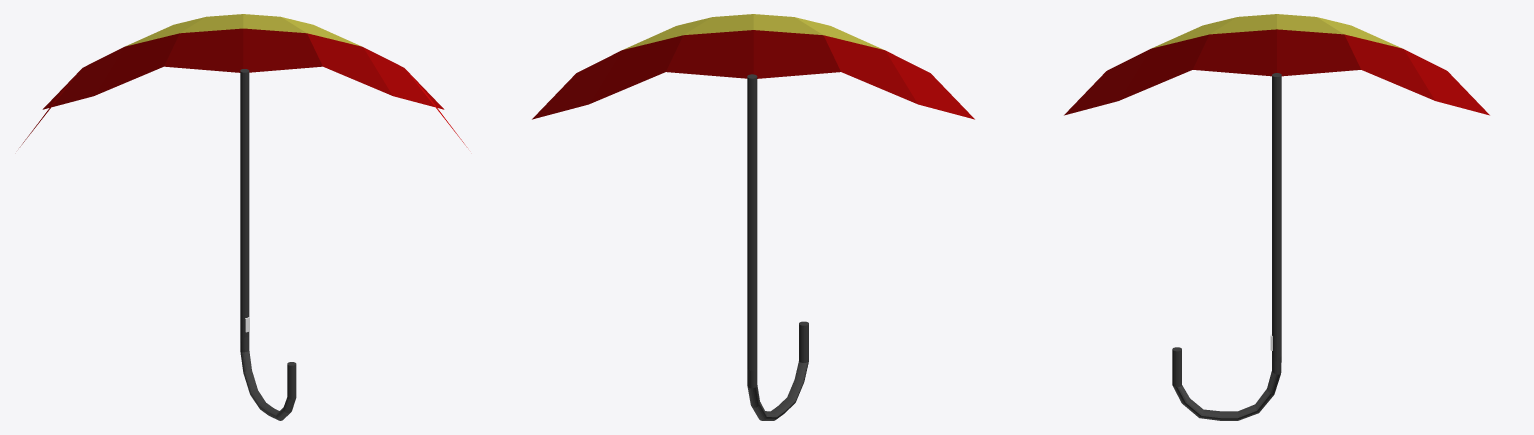
Rendered from fda336a5-836d-44b4-be44-ce5c3fa7c07d.glb.
The picture shows the model from 3 angles, left to right: view 1: azimuth 30°, elevation 25°; view 2: azimuth 150°, elevation 25°; view 3: azimuth 270°, elevation 25°; orthographic projection. The views are drawn at different scales.
Parts seen in each view (by area): view 1: Cylinder003, Cylinder004; view 2: Cylinder003, Cylinder004; view 3: Cylinder003, Cylinder004.
Part boxes in pixels (x1,y1,x2,y2): Cylinder003: [19, 14, 467, 147]; Cylinder004: [240, 69, 296, 420]; Cylinder003: [532, 14, 974, 119]; Cylinder004: [747, 74, 808, 420]; Cylinder003: [1064, 14, 1489, 115]; Cylinder004: [1172, 73, 1281, 420].
Size of the model in its own units: 108551 by 95213 by 106902.
